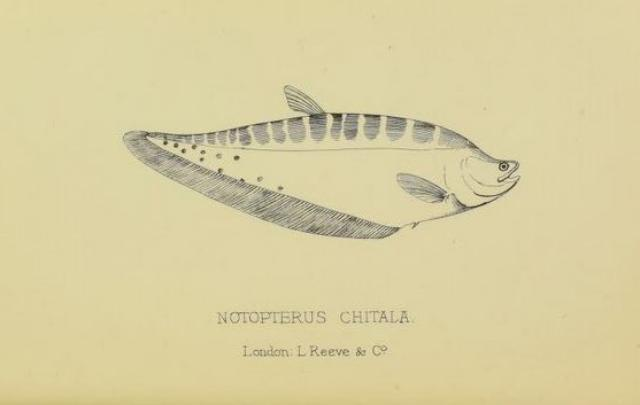Mulut: (487, 152, 525, 194)
Sirip Dada: (396, 166, 464, 220)
Sirip Perut: (406, 216, 424, 241)
Sirip Punggung: (275, 75, 333, 129)
